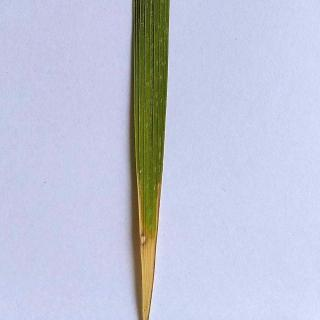Blast: (133, 202, 157, 276)
